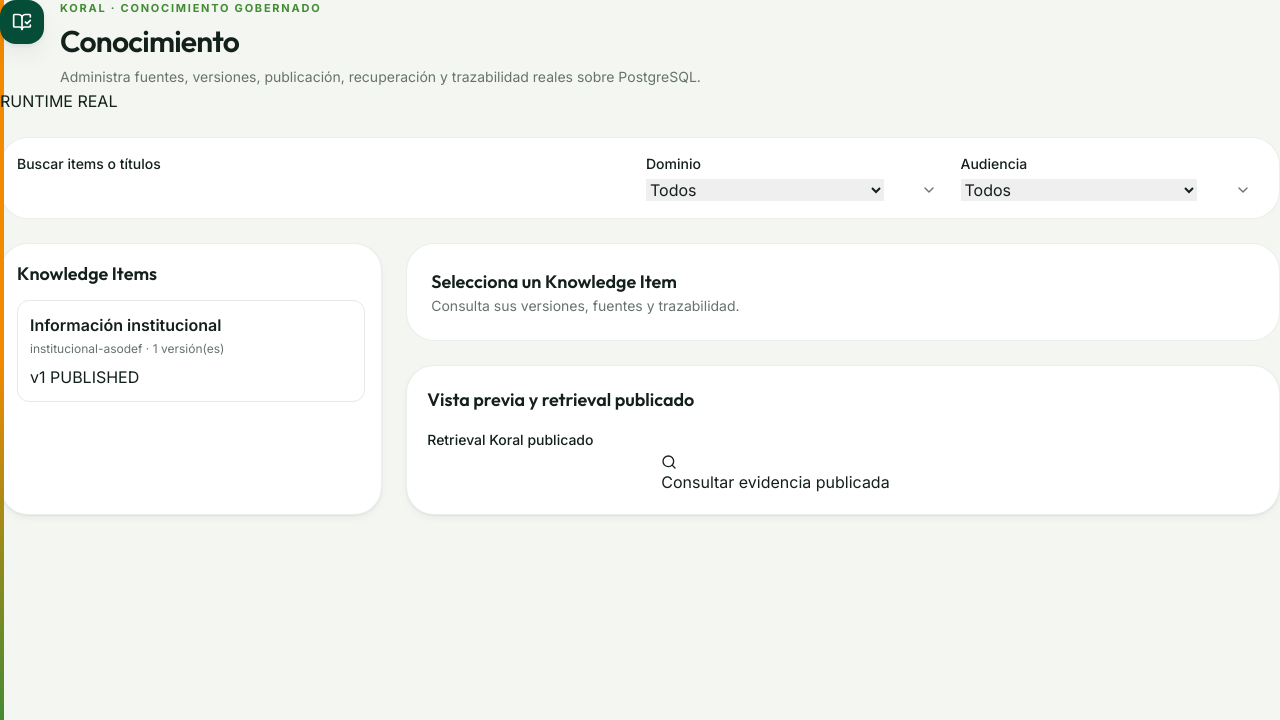
KnowledgeAdminPage › keeps managed diff and publish preview out of a read-only session
Click the button "Información institucional": (191, 350) [17, 300, 365, 402]
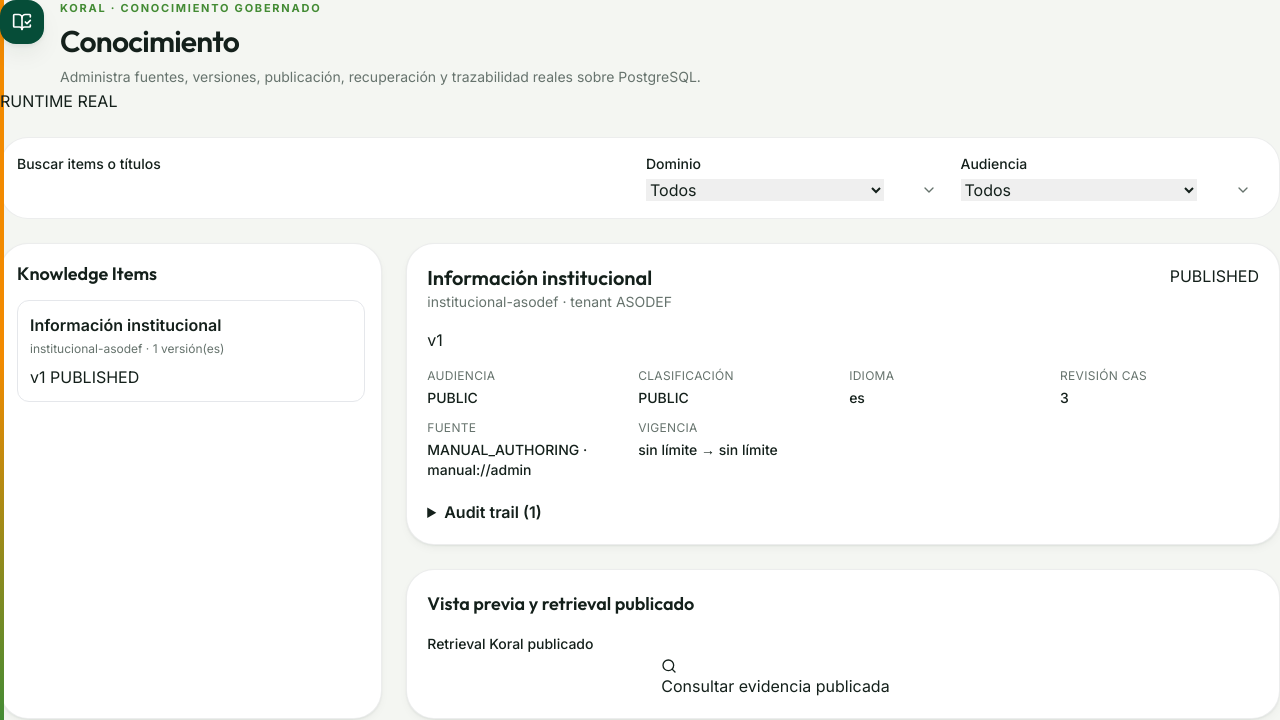
Expected: the button "Consultar evidencia publicada" is shown, [661, 658, 890, 698]
Now the heading "Información institucional" is shown, box [427, 264, 672, 292]
